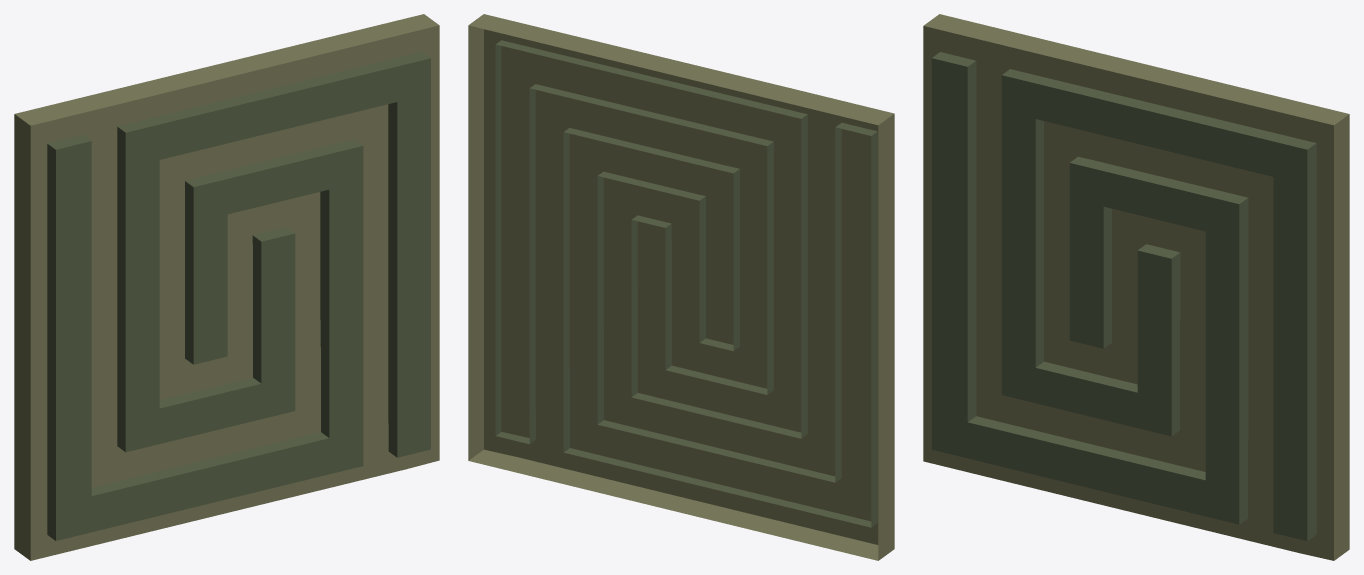
File: decor_big.fbx
The picture shows the model from 3 angles, left to right: view 1: azimuth 30°, elevation 25°; view 2: azimuth 150°, elevation 25°; view 3: azimuth 330°, elevation 25°; orthographic projection.
Visible parts, largest first — view 1: decorbig, decorbig_plane; view 2: decorbig_plane, decorbig; view 3: decorbig, decorbig_plane.
Part boxes in pixels (x1,y1,x2,y2): decorbig: [47, 51, 430, 540]; decorbig_plane: [14, 14, 439, 560]; decorbig_plane: [468, 14, 894, 560]; decorbig: [495, 40, 877, 527]; decorbig: [931, 52, 1316, 541]; decorbig_plane: [923, 14, 1349, 560].
Bounding box in the file's own units: 1.18 × 1.2 × 0.1227.
